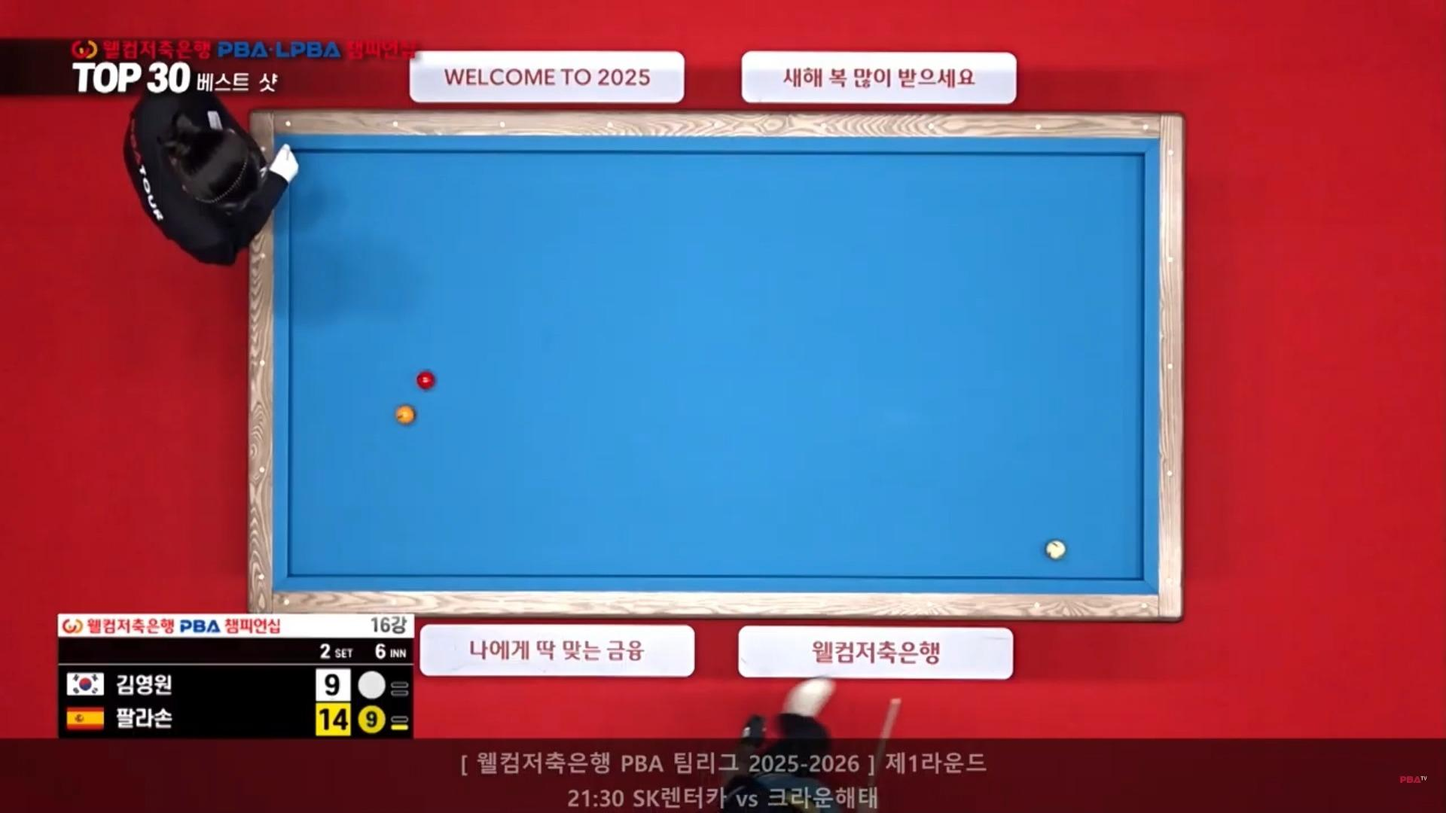Red: (414, 371, 436, 388)
White: (1043, 540, 1067, 560)
billiard-ball-Yellow: (397, 405, 419, 426)
